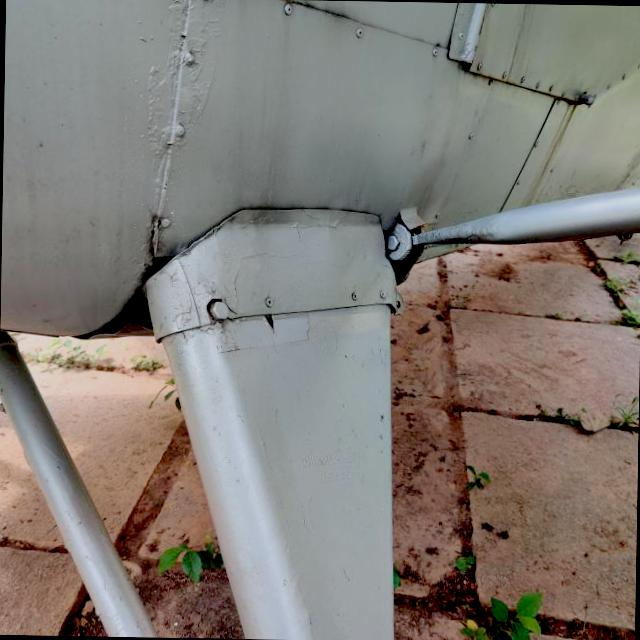crack: (242, 302, 288, 341)
